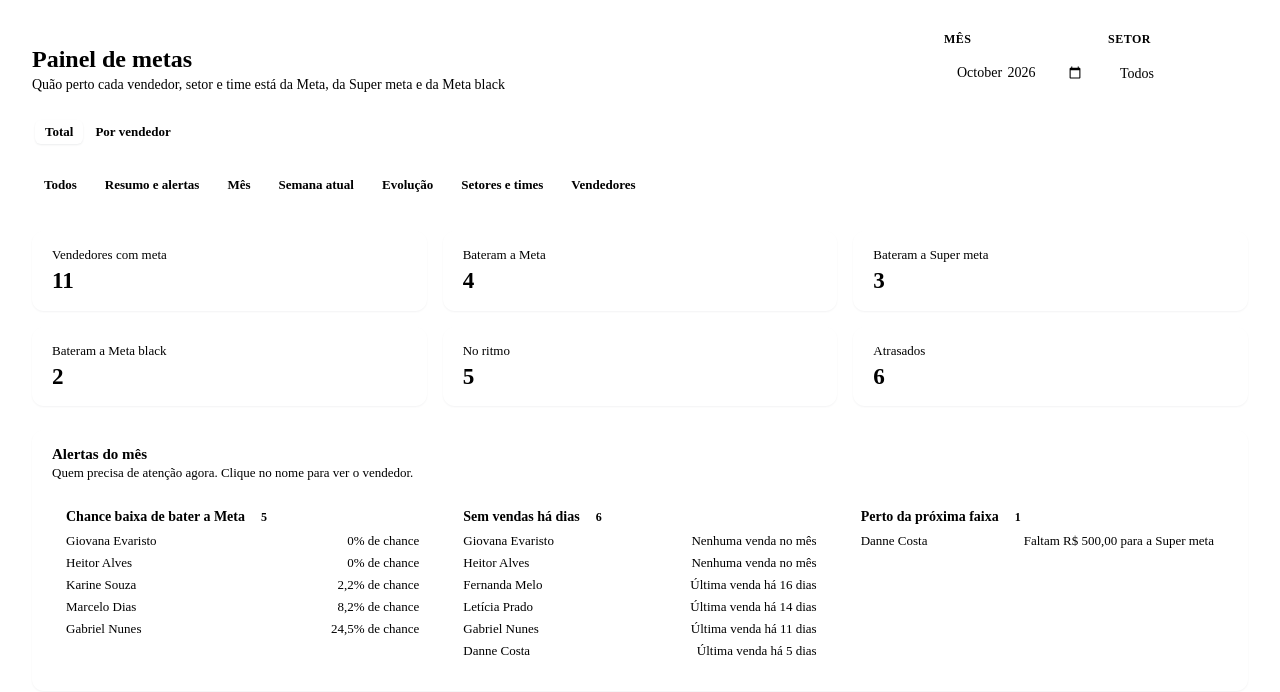
it: Telas de metas com os dados falsos (quarta 21/10/2026) › Metas por vendedor › abas: Todos mostra tudo; cada aba mostra só os widgets dela
The image size is (1280, 692).
Check: the element named "Resumo das metas" is shown, box x1=32 y1=231 x2=1248 y2=406
Click the button "Vendedores": (603, 185) x1=559 y1=171 x2=648 y2=199
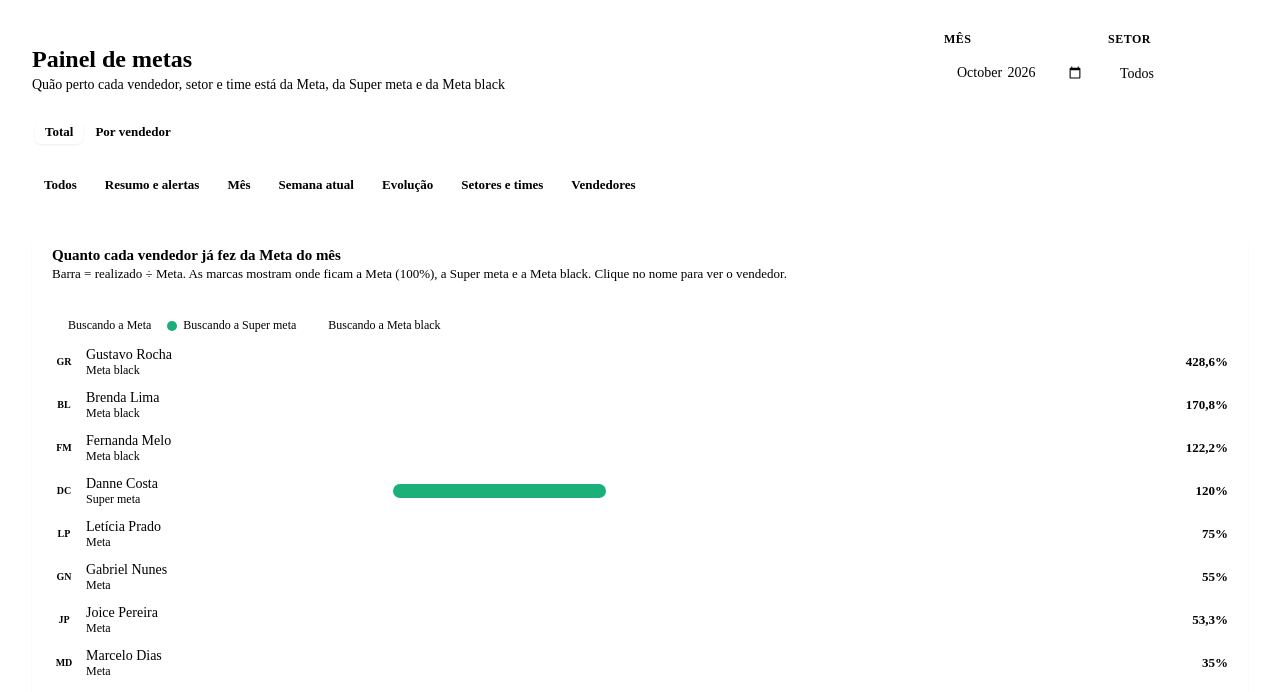
Click the button "Mês": (239, 185) x1=215 y1=171 x2=262 y2=199
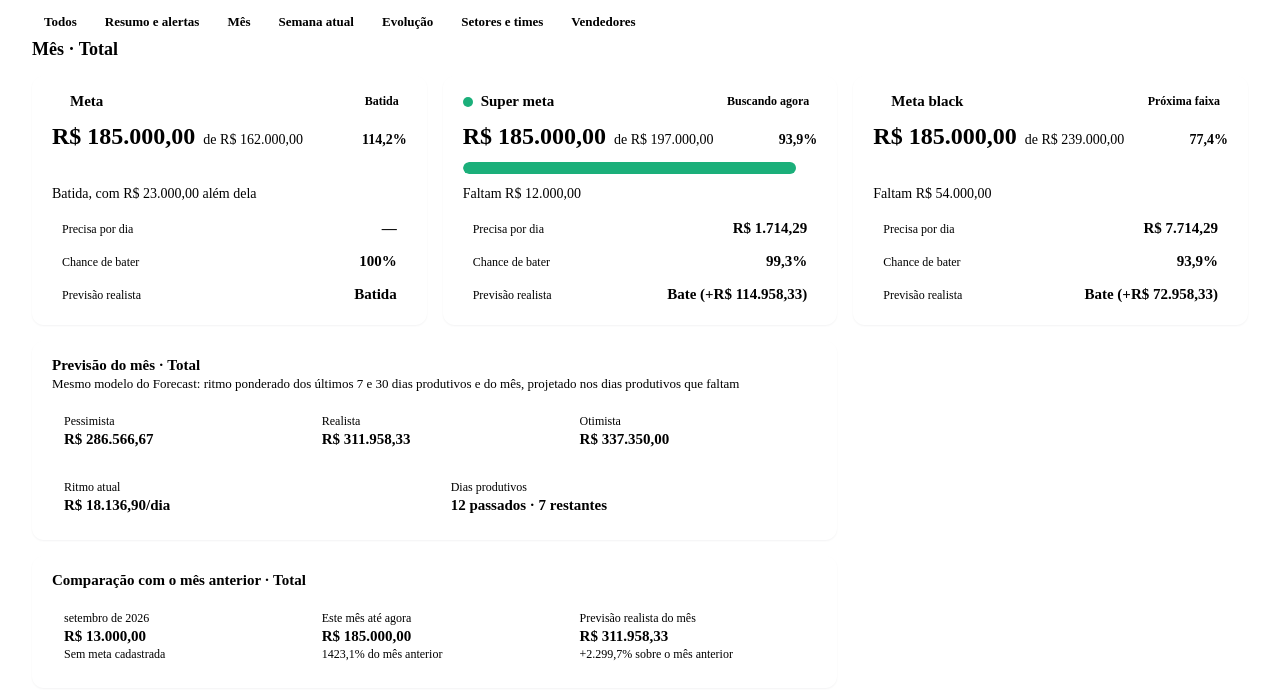
Check: the element "Previsão do mês · Total" is shown, box x1=32 y1=341 x2=837 y2=540
